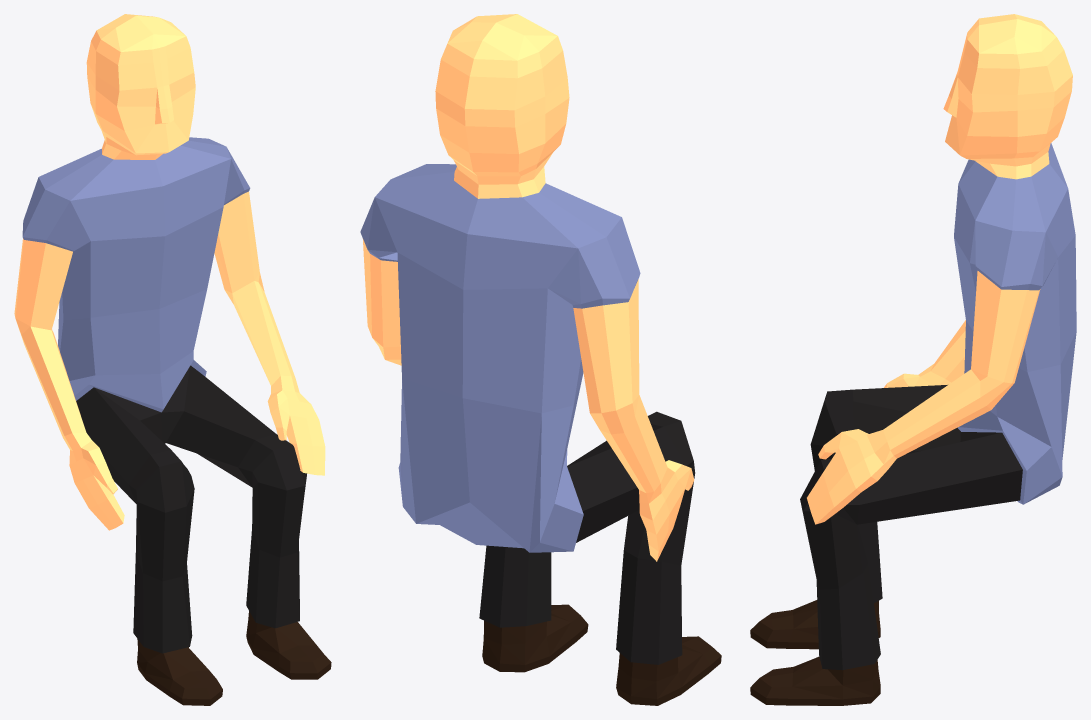
Rendered from male_sitting.glb.
3 views of the same model, side by side, from view 1: azimuth 30°, elevation 25°; view 2: azimuth 150°, elevation 25°; view 3: azimuth 270°, elevation 25° (orthographic). The views are drawn at different scales.
Parts seen in each view (by area): view 1: Male_Sitting; view 2: Male_Sitting; view 3: Male_Sitting.
Boxes of the visible parts, bbox=[...] form: Male_Sitting: bbox=[14, 14, 331, 705]; Male_Sitting: bbox=[360, 14, 721, 705]; Male_Sitting: bbox=[750, 14, 1076, 705].
Bounding box in the file's own units: 0.7476 × 1.85 × 0.8492.
